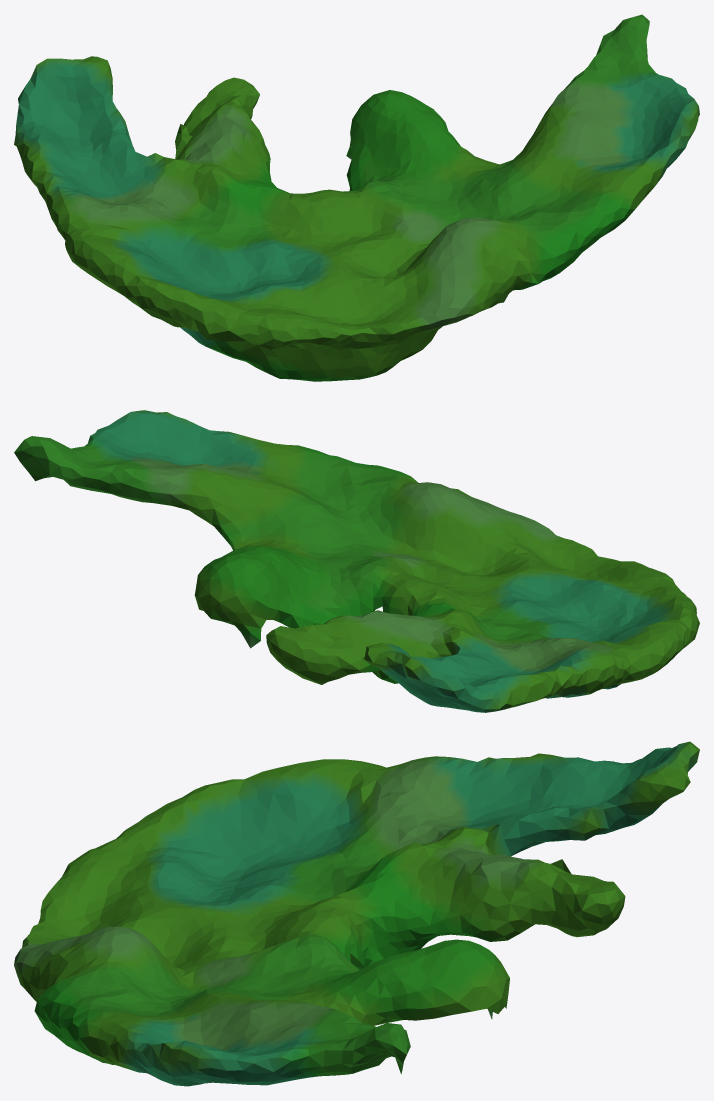
File: PlatypusGroundIslandBase.fbx
The picture shows the model from 3 angles, top to bottom: view 1: azimuth 30°, elevation 25°; view 2: azimuth 150°, elevation 25°; view 3: azimuth 270°, elevation 25°; orthographic projection. The views are drawn at different scales.
Visible parts, largest first — view 1: Icosphere; view 2: Icosphere; view 3: Icosphere.
Boxes of the visible parts, x1,y1,x2,y2 form: Icosphere: [14, 14, 699, 381]; Icosphere: [14, 410, 699, 712]; Icosphere: [14, 741, 699, 1086].
Bounding box in the file's own units: 814 × 229 × 630.
